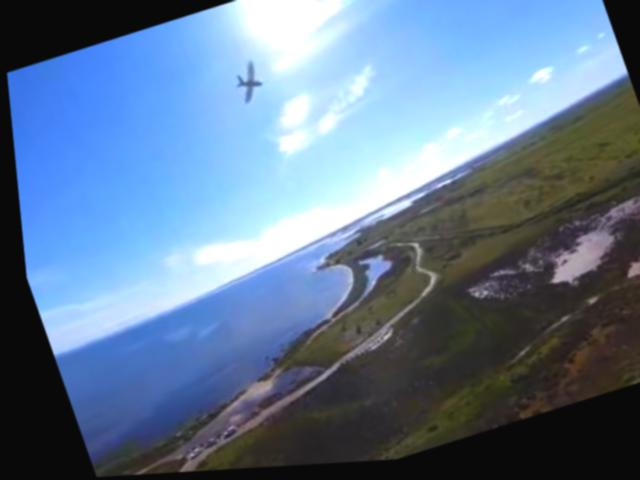uav: (228, 56, 270, 109)
